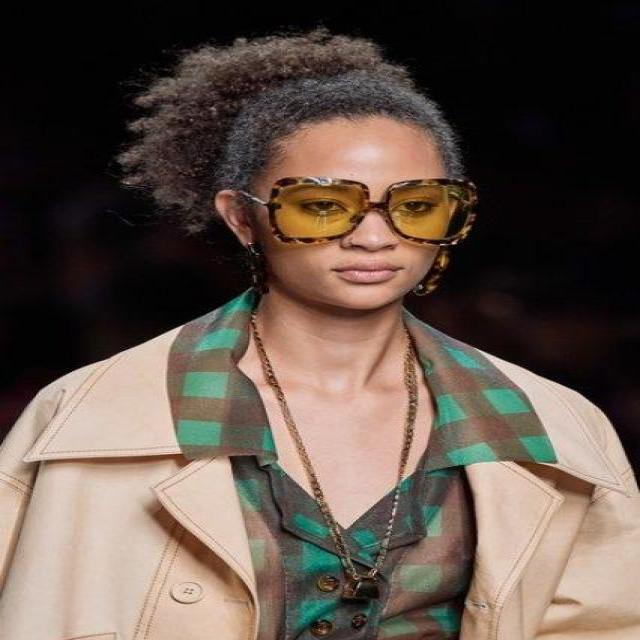glasses: (260, 176, 484, 246)
